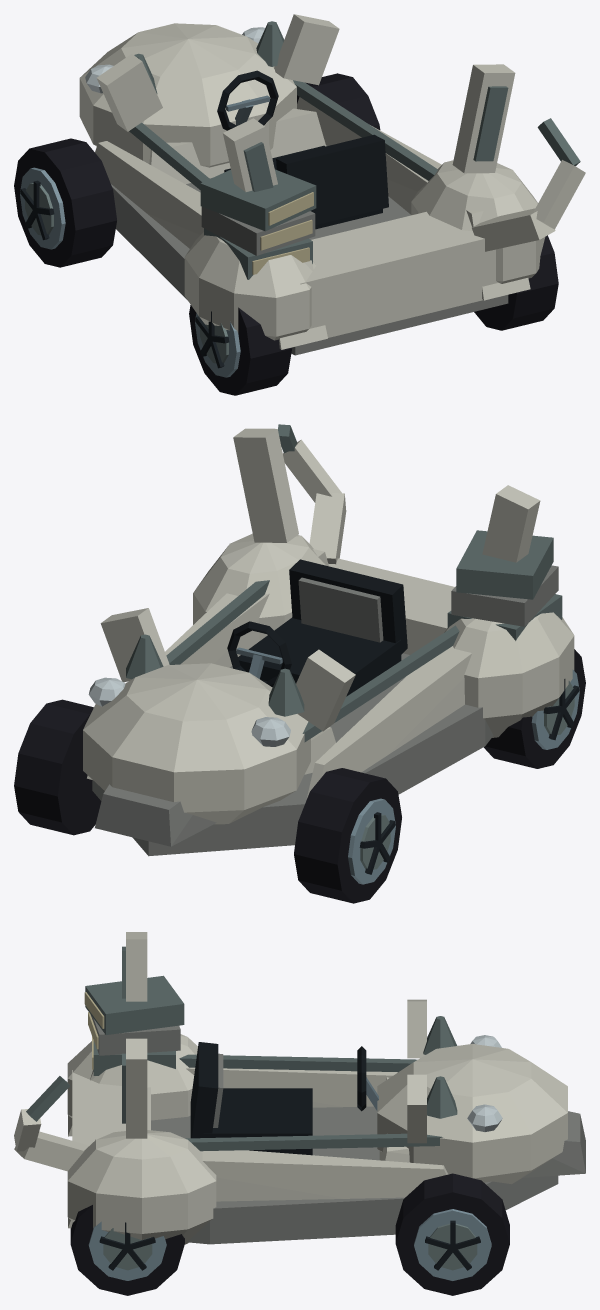
File: kart.glb
3 views of the same model, one above another, from view 1: azimuth 30°, elevation 25°; view 2: azimuth 150°, elevation 25°; view 3: azimuth 270°, elevation 25° (orthographic). The views are drawn at different scales.
Visible parts, largest first — view 1: identity-beast-beast-sculpted-prow-and-haunches, wheel-front-left, identity-beast-motif-books, identity-beast-driver-cockpit, identity-beast-motif-ears, wheel-rear-left, identity-beast-motif-tail, wheel-rear-right, wheel-front-right; view 2: identity-beast-beast-sculpted-prow-and-haunches, identity-beast-driver-cockpit, wheel-front-left, wheel-front-right, identity-beast-motif-ears, identity-beast-motif-books, wheel-rear-left, identity-beast-motif-tail; view 3: identity-beast-beast-sculpted-prow-and-haunches, wheel-front-right, identity-beast-driver-cockpit, identity-beast-motif-books, wheel-rear-right, identity-beast-motif-ears, identity-beast-motif-tail.
Part boxes in pixels (x1,y1,x2,y2): identity-beast-beast-sculpted-prow-and-haunches: [79, 14, 545, 355]; wheel-front-left: [14, 138, 116, 267]; identity-beast-motif-books: [200, 169, 316, 279]; identity-beast-driver-cockpit: [217, 70, 388, 229]; identity-beast-motif-ears: [223, 64, 515, 191]; wheel-rear-left: [189, 305, 292, 395]; identity-beast-motif-tail: [472, 118, 585, 251]; wheel-rear-right: [474, 235, 558, 330]; wheel-front-right: [297, 73, 380, 129]; identity-beast-beast-sculpted-prow-and-haunches: [83, 533, 574, 856]; identity-beast-driver-cockpit: [227, 559, 407, 696]; wheel-front-left: [294, 768, 401, 903]; wheel-front-right: [14, 699, 101, 835]; identity-beast-motif-ears: [233, 428, 540, 562]; identity-beast-motif-books: [447, 530, 562, 640]; wheel-rear-left: [483, 649, 585, 768]; identity-beast-motif-tail: [278, 424, 346, 564]; identity-beast-beast-sculpted-prow-and-haunches: [67, 999, 585, 1244]; wheel-front-right: [395, 1173, 509, 1295]; identity-beast-driver-cockpit: [190, 1042, 378, 1155]; identity-beast-motif-books: [84, 975, 184, 1075]; wheel-rear-right: [70, 1205, 184, 1295]; identity-beast-motif-ears: [122, 932, 147, 1138]; identity-beast-motif-tail: [14, 1076, 88, 1171].
Size of the model in its own units: 2.01 by 1.46 by 3.2.
